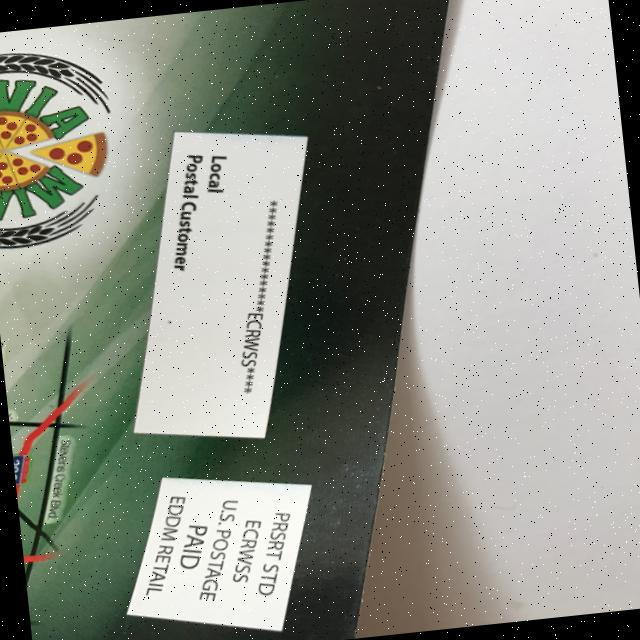paper: (0, 0, 515, 640)
